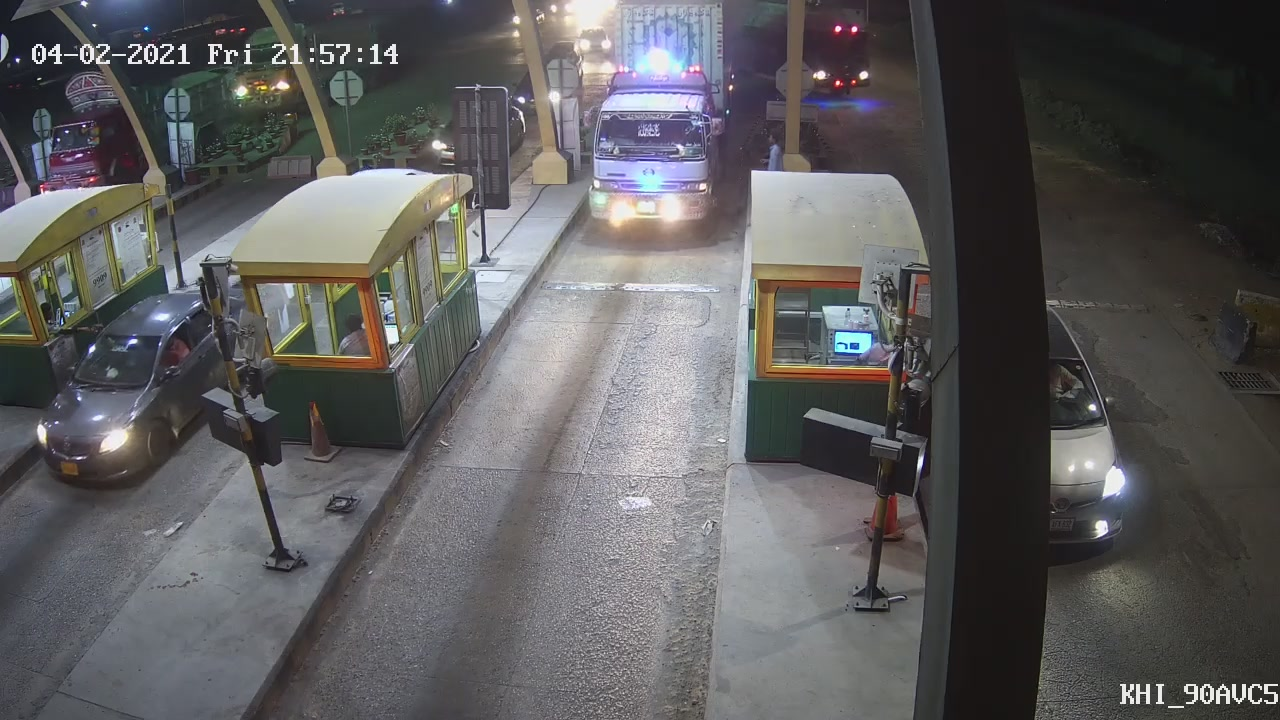F6: (581, 1, 745, 233)
